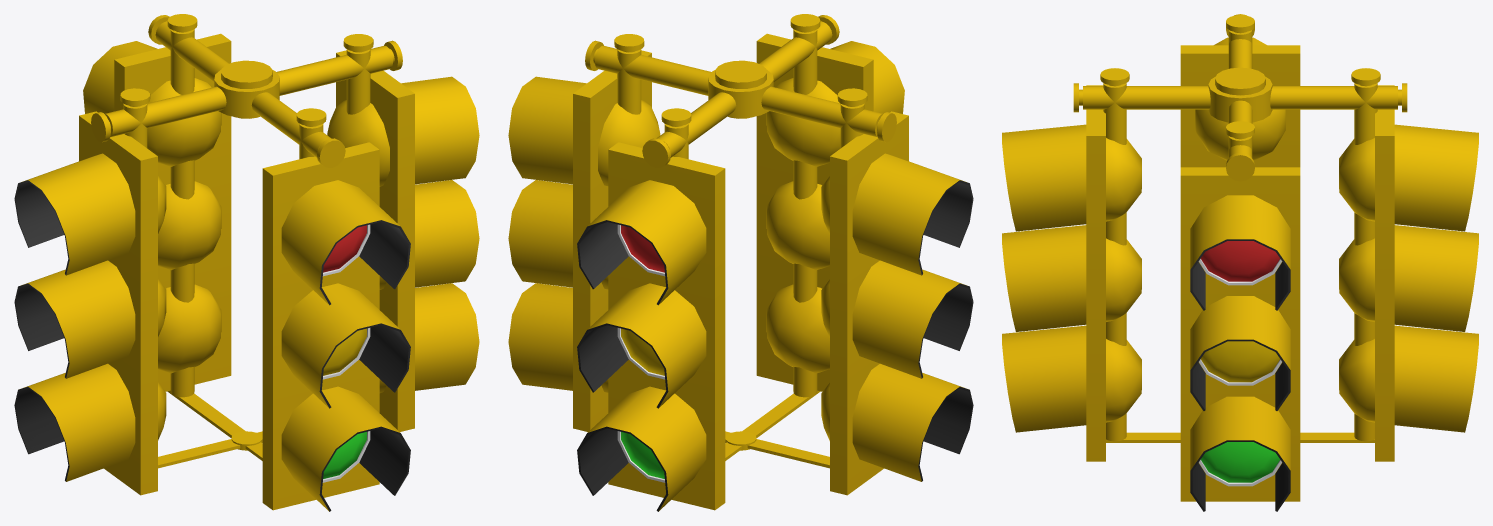
Rendered from traffic_light_01_base_large_yellow.glb.
3 views of the same model, side by side, from view 1: azimuth 30°, elevation 25°; view 2: azimuth 150°, elevation 25°; view 3: azimuth 270°, elevation 25° (orthographic). The views are drawn at different scales.
Parts seen in each view (by area): view 1: traffic_light_01_lights_large_yellow.001, traffic_light_01_lights_large_yellow, traffic_light_01_lights_large_yellow.002, traffic_light_01_lights_large_yellow.003, traffic_light_01_base_large_yellow; view 2: traffic_light_01_lights_large_yellow.003, traffic_light_01_lights_large_yellow, traffic_light_01_lights_large_yellow.002, traffic_light_01_lights_large_yellow.001, traffic_light_01_base_large_yellow; view 3: traffic_light_01_lights_large_yellow.001, traffic_light_01_lights_large_yellow.003, traffic_light_01_lights_large_yellow.002, traffic_light_01_base_large_yellow, traffic_light_01_lights_large_yellow.
Boxes of the visible parts, x1,y1,x2,y2 form: traffic_light_01_lights_large_yellow.001: (262,108,410,511); traffic_light_01_lights_large_yellow: (14,88,166,495); traffic_light_01_lights_large_yellow.002: (327,34,479,431); traffic_light_01_lights_large_yellow.003: (83,14,231,397); traffic_light_01_base_large_yellow: (91,15,402,468); traffic_light_01_lights_large_yellow.003: (577,108,725,511); traffic_light_01_lights_large_yellow: (821,88,973,495); traffic_light_01_lights_large_yellow.002: (508,34,660,431); traffic_light_01_lights_large_yellow.001: (756,14,904,397); traffic_light_01_base_large_yellow: (585,15,896,468); traffic_light_01_lights_large_yellow.001: (1002,68,1141,461); traffic_light_01_lights_large_yellow.003: (1339,68,1478,461); traffic_light_01_lights_large_yellow.002: (1180,121,1300,511); traffic_light_01_base_large_yellow: (1073,14,1407,442); traffic_light_01_lights_large_yellow: (1180,15,1300,167).
Bounding box in the file's own units: 1.41 × 1.2 × 1.41.
1 material, 1 textured.
